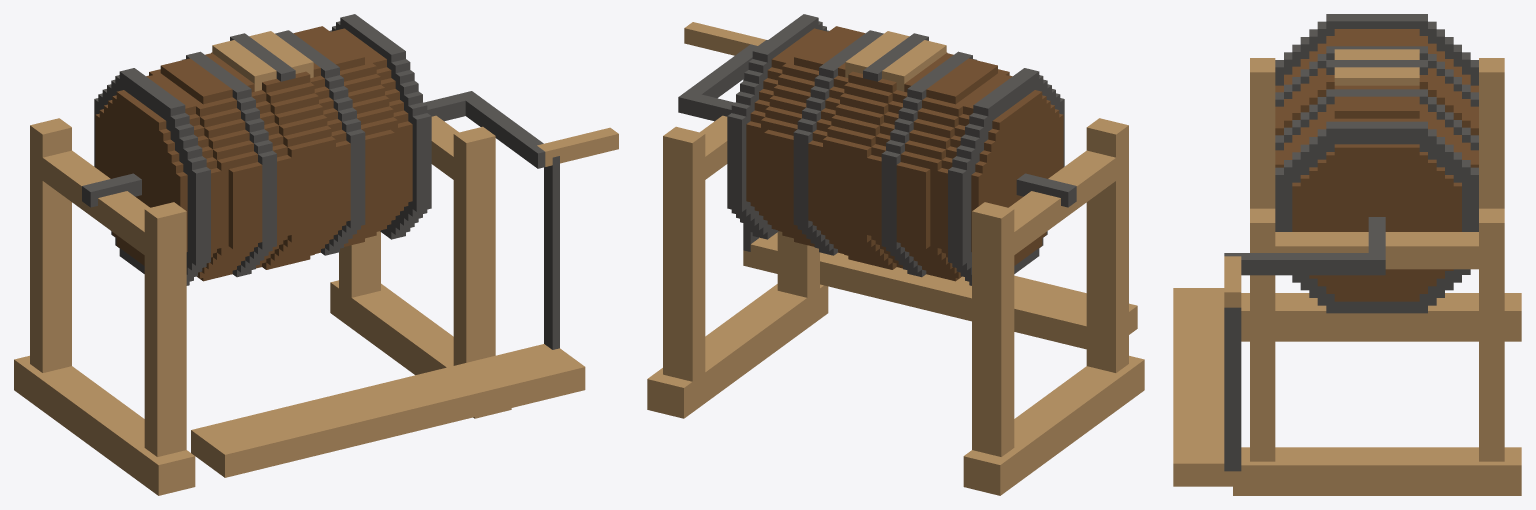
The model's file is churn.glb.
3 views of the same model, side by side, from view 1: azimuth 30°, elevation 25°; view 2: azimuth 150°, elevation 25°; view 3: azimuth 270°, elevation 25° (orthographic).
Parts seen in each view (by area): view 1: churn:compound; view 2: churn:compound; view 3: churn:compound.
Part boxes in pixels (x1,y1,x2,y2): churn:compound: (14,14,618,495); churn:compound: (647,14,1144,495); churn:compound: (1173,14,1521,495).
Size of the model in its own units: 0.62 by 0.45 by 0.41.
